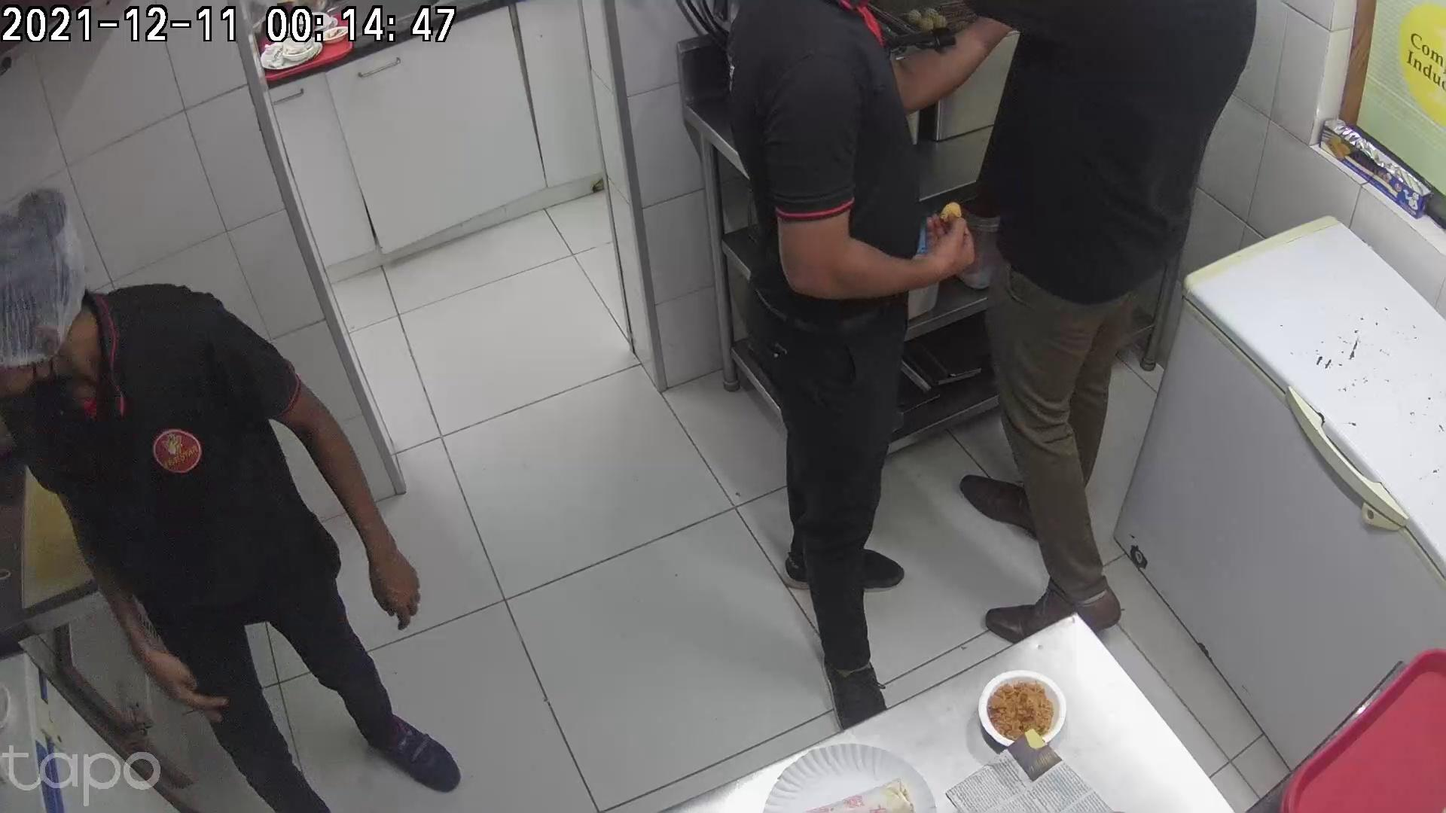no_gloves: (364, 517, 421, 631)
